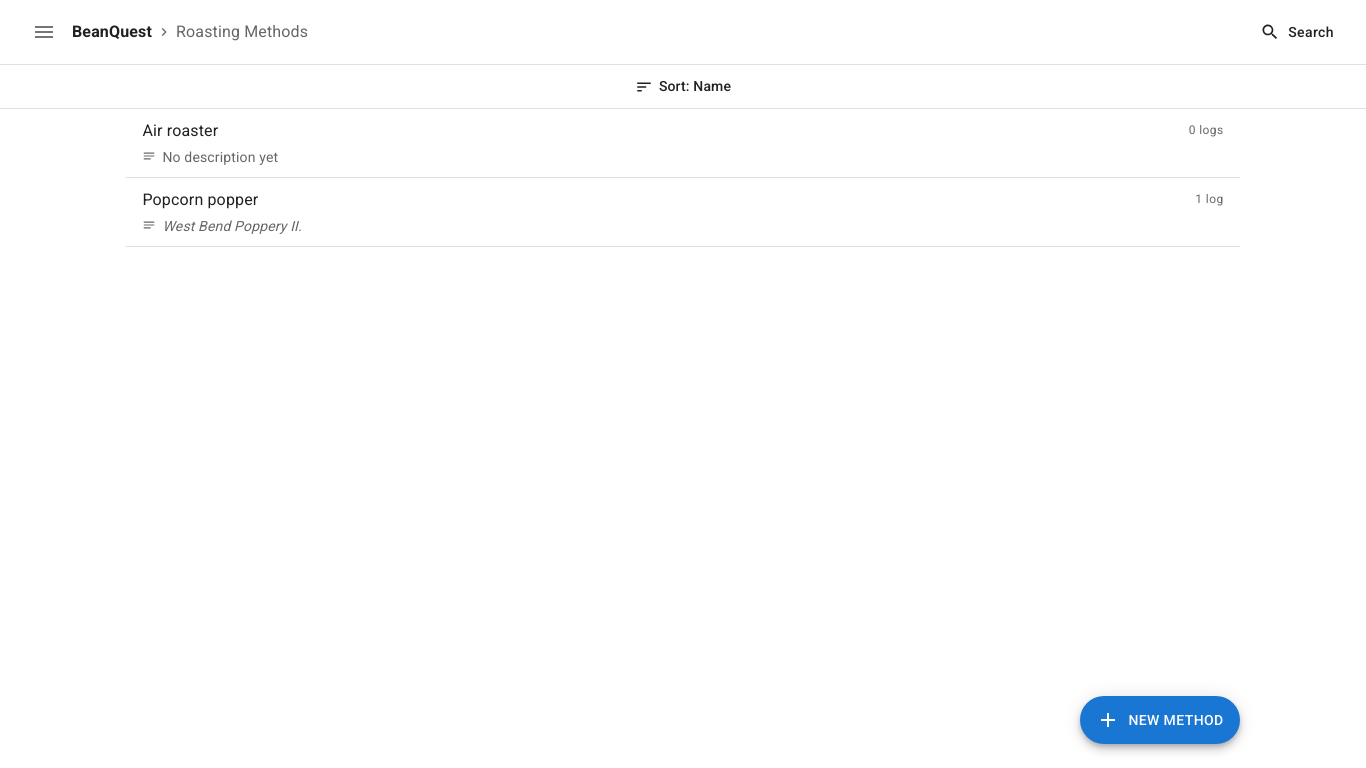
Scenario: RoastingMethodsPage › keeps the form open and shows an error if creating a method fails
expect the text "Popcorn popper" is shown: met, box [142,188,258,212]
Click the button with aria-label "New roasting method" at coordinates (1160, 720), box [1080,696,1240,744]
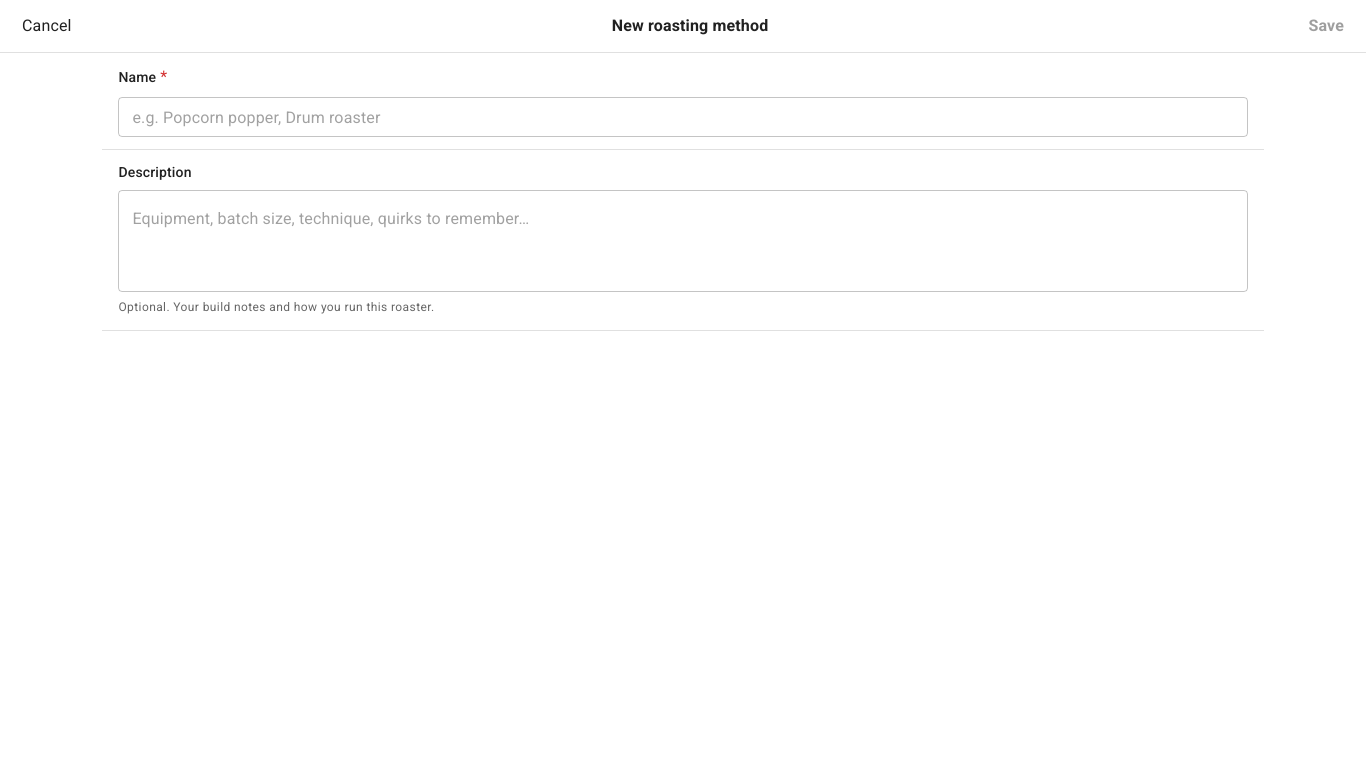
Type "Whirley-Pop" into the field with placeholder "e.g. Popcorn popper, Drum roaster" at coordinates (683, 117), box [118,97,1248,137]
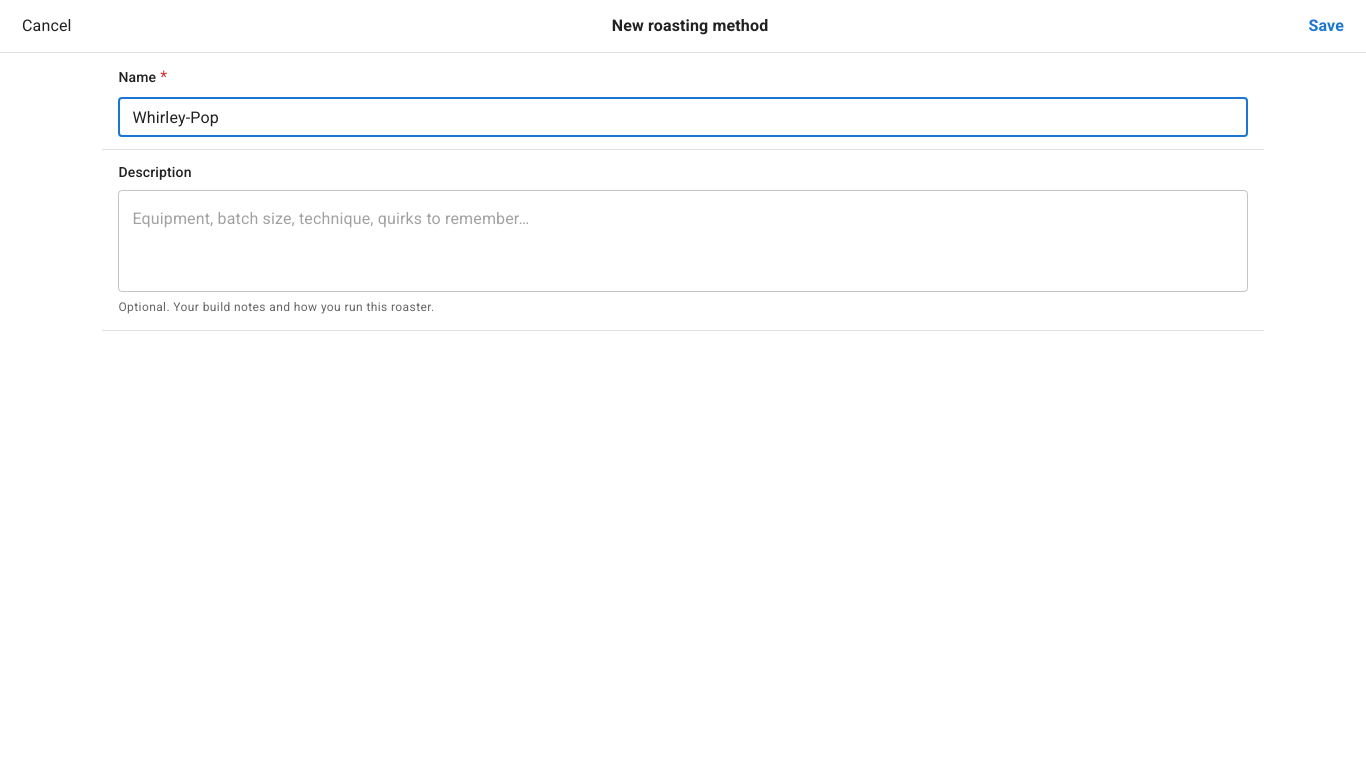
Click the button "Save" at coordinates (1326, 26), box [1302,13,1350,39]
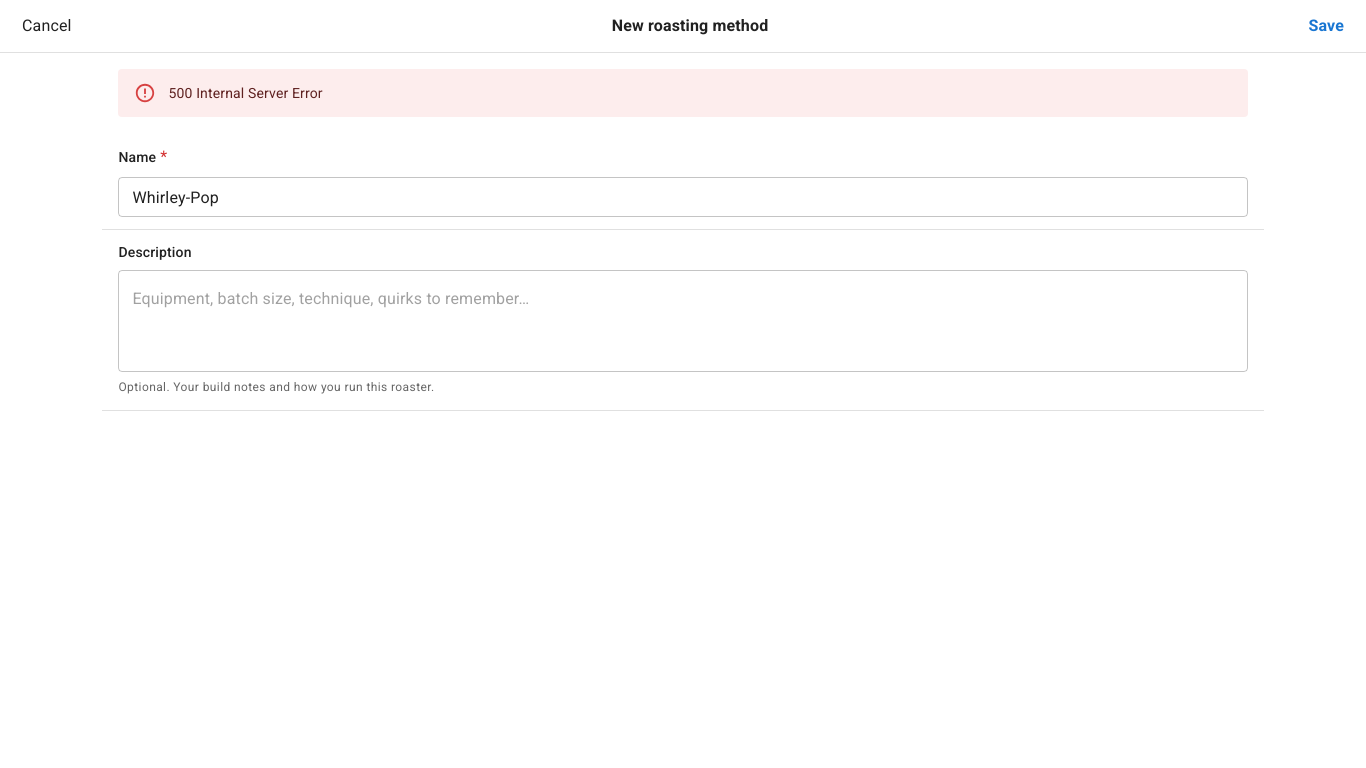
expect the text "500 Internal Server Error" is shown: met, box [168,85,323,101]
